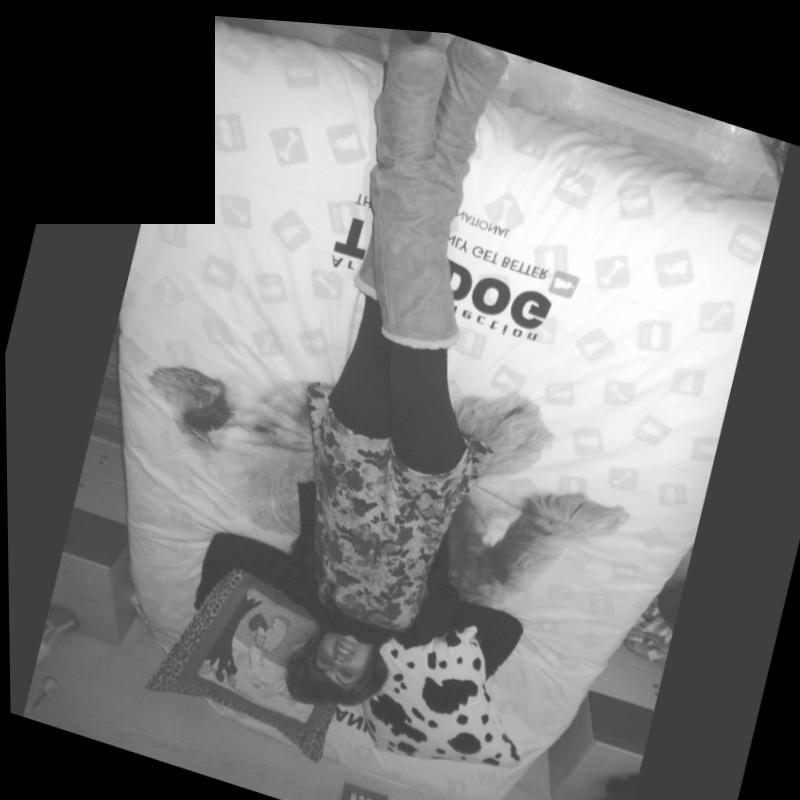pillow: (338, 578, 547, 787), (165, 543, 341, 747)
